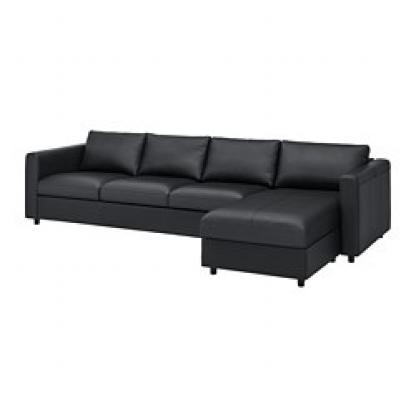Sofa: (18, 113, 393, 295)
